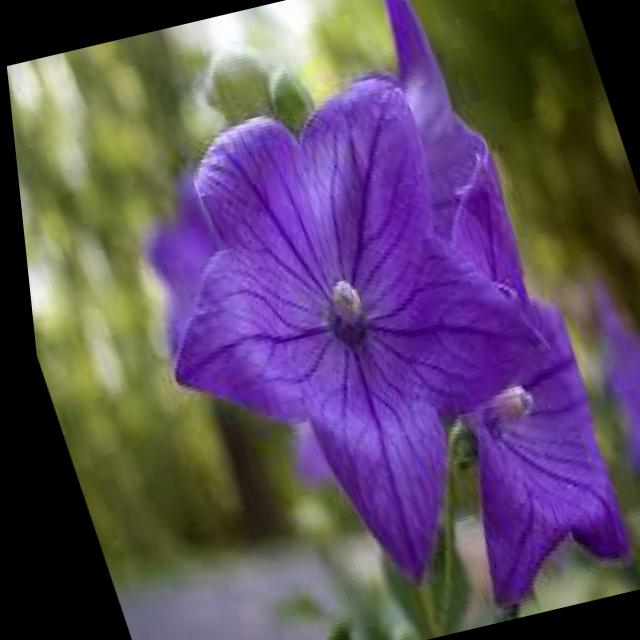Flower: (75, 37, 595, 601)
